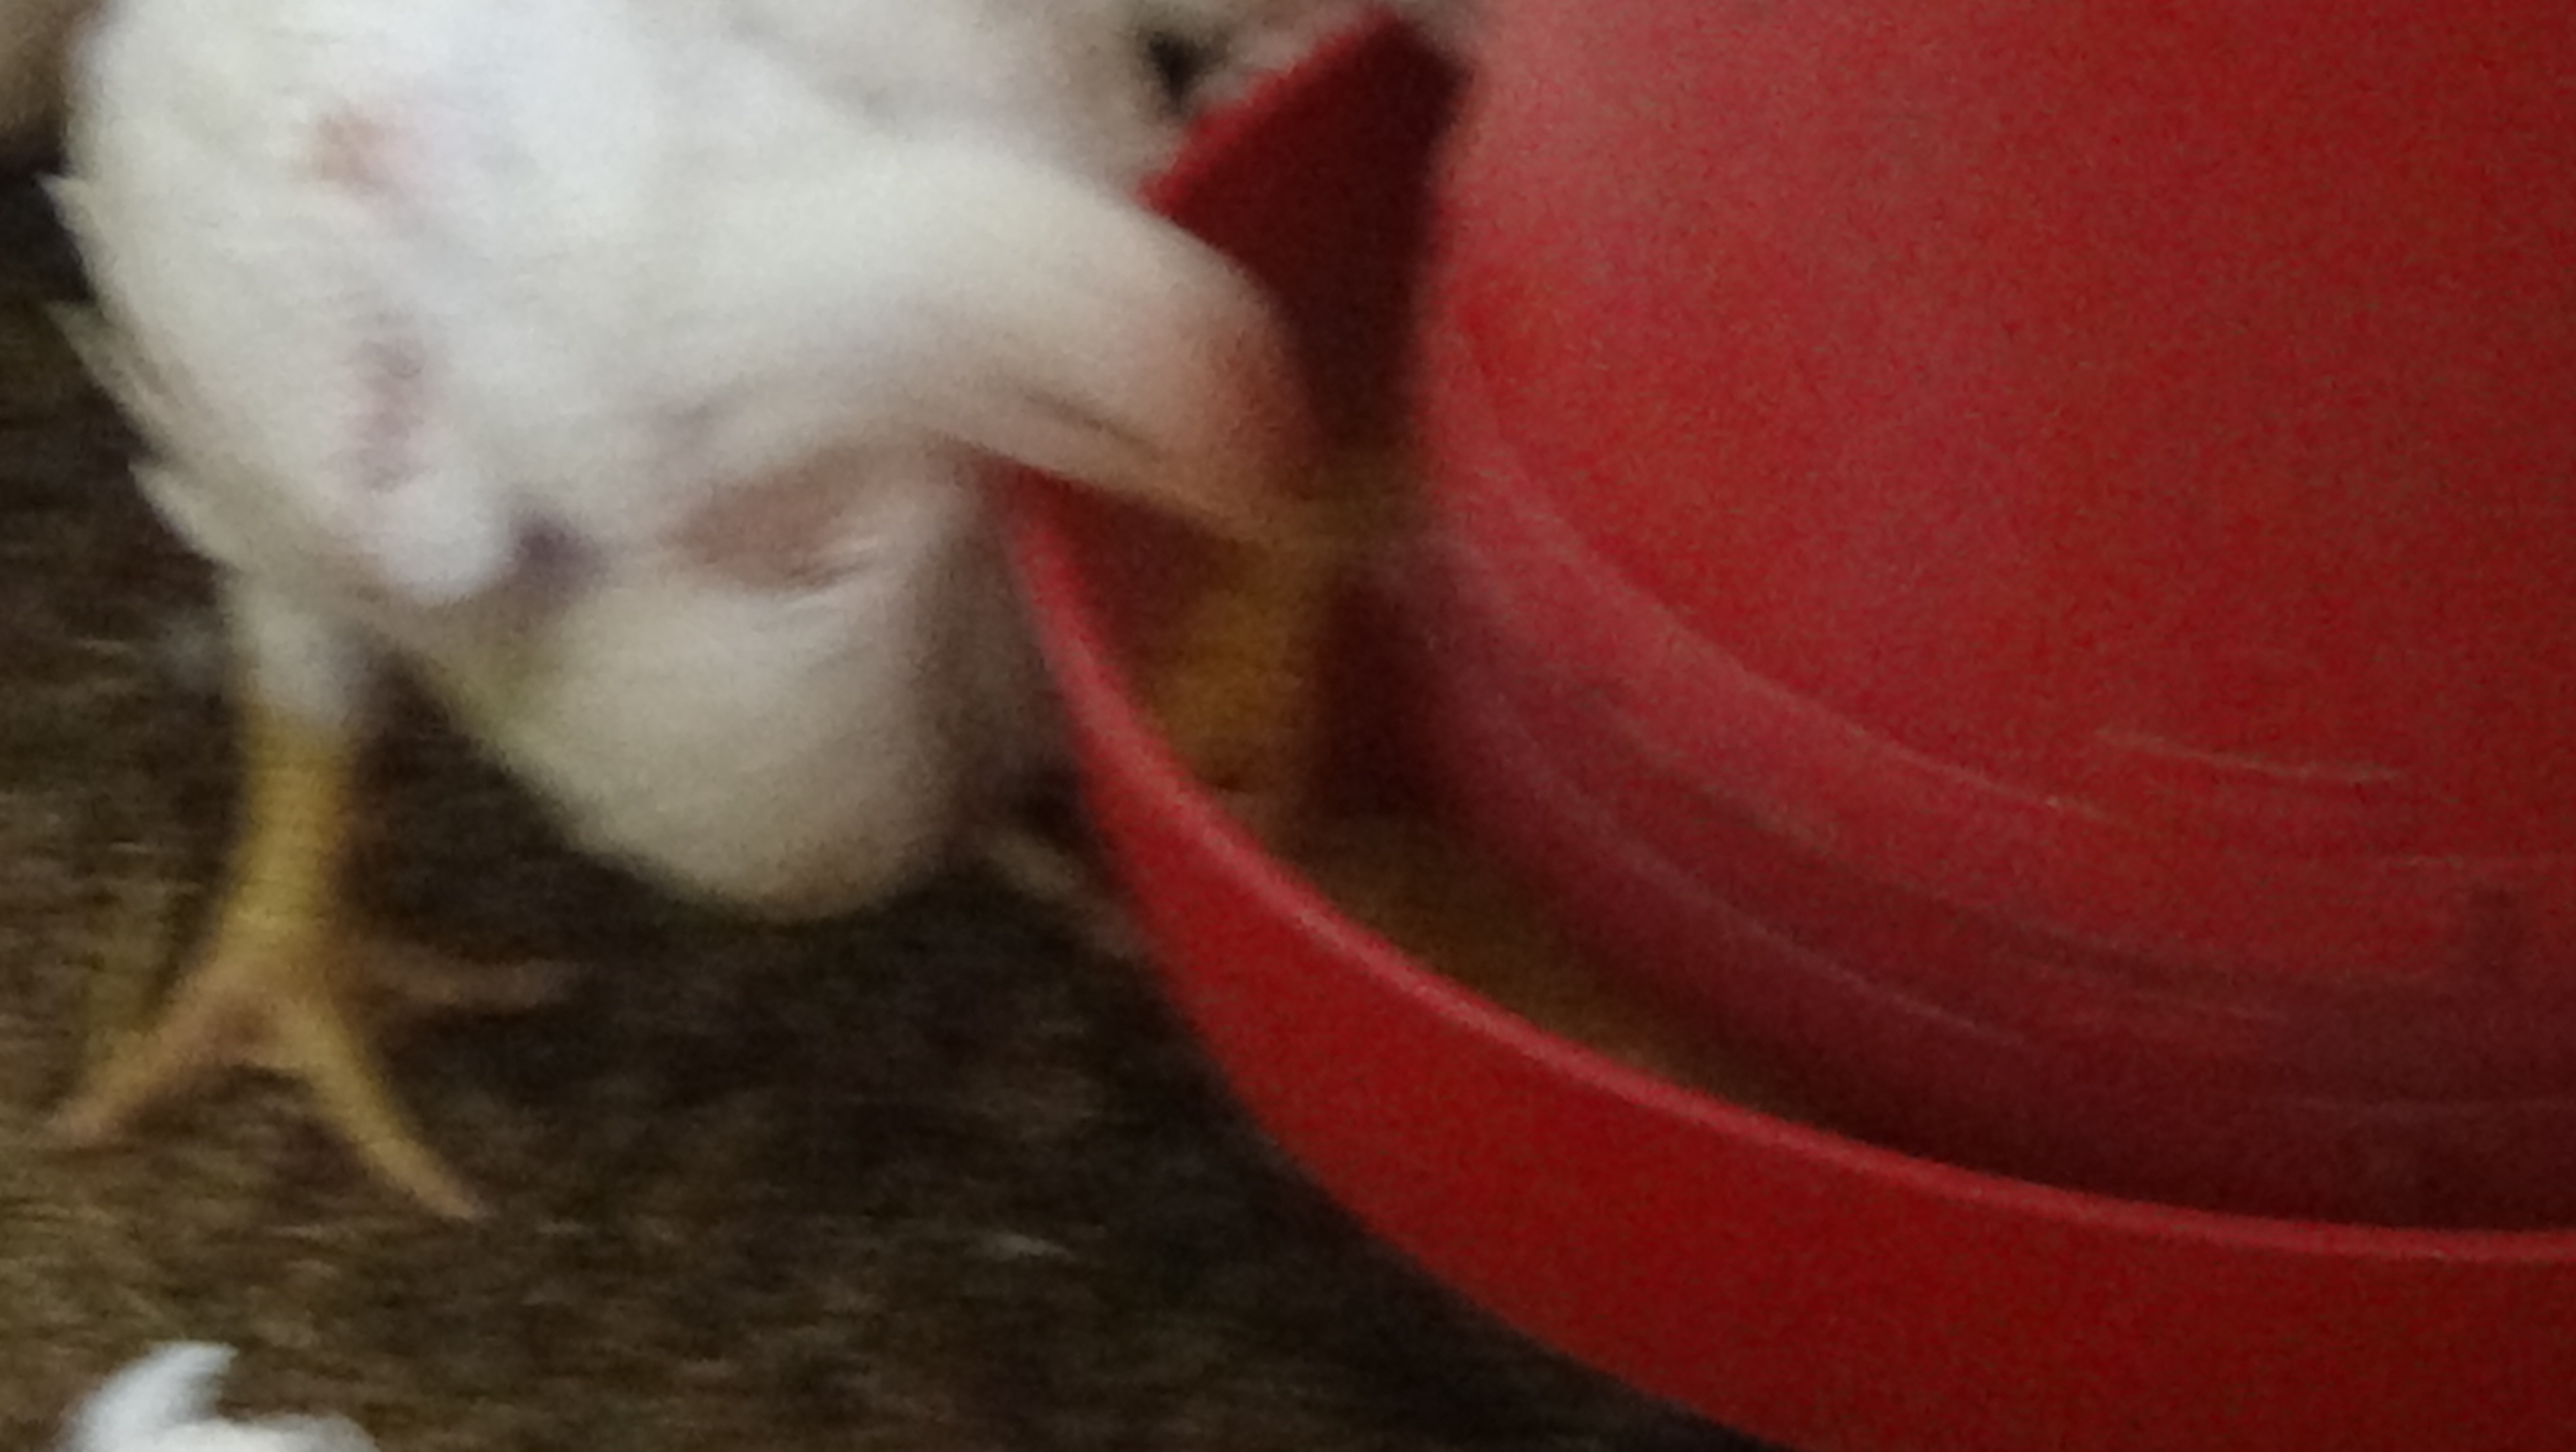Pollos: (0, 0, 1364, 1213)
